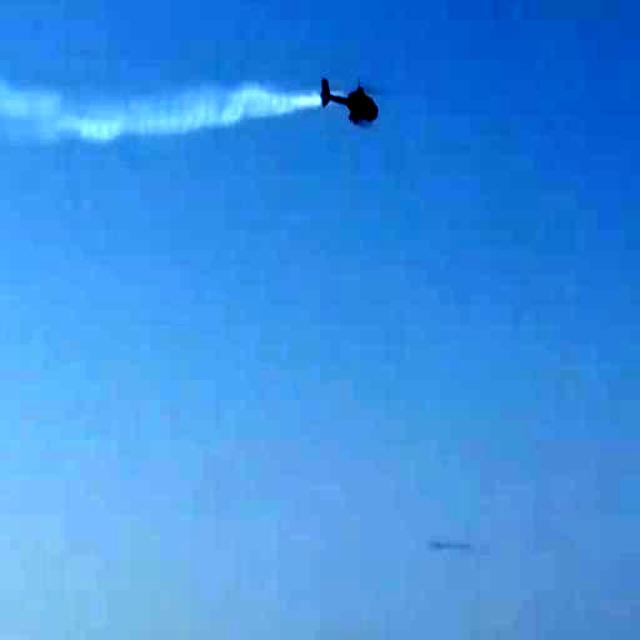drone: (318, 66, 382, 126)
